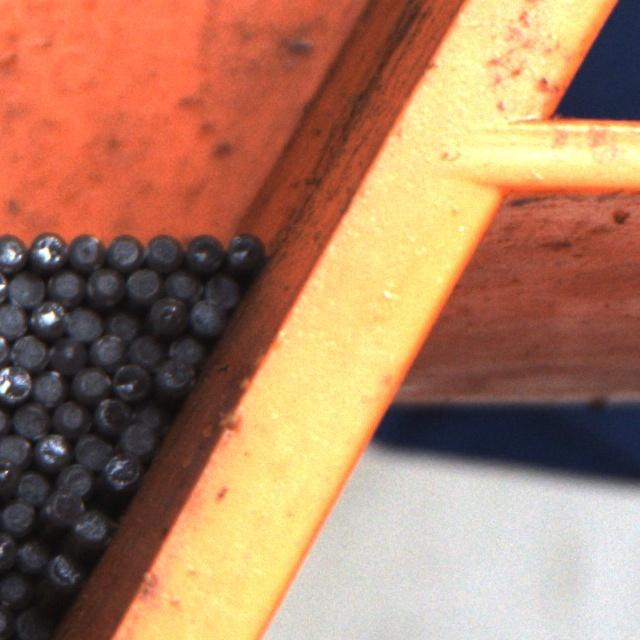tool: (182, 231, 222, 272), (153, 352, 194, 392), (222, 230, 262, 270), (100, 452, 140, 491), (29, 228, 67, 268), (144, 296, 184, 334), (143, 228, 181, 268), (84, 266, 122, 305), (71, 505, 110, 543), (201, 272, 240, 310), (162, 268, 200, 307), (55, 462, 94, 500), (110, 361, 150, 398), (28, 296, 66, 334), (32, 430, 70, 468), (72, 361, 110, 399), (188, 296, 226, 334), (44, 552, 82, 590), (125, 264, 162, 303), (90, 394, 129, 431), (118, 418, 158, 454), (104, 230, 141, 268), (30, 366, 67, 404), (50, 397, 88, 434), (66, 230, 103, 268), (7, 270, 44, 308), (12, 400, 49, 438), (38, 494, 75, 532), (10, 332, 47, 369), (50, 333, 87, 370), (0, 496, 36, 534), (74, 432, 112, 468), (14, 536, 50, 574), (47, 267, 84, 303), (126, 331, 163, 367), (88, 329, 125, 365), (14, 605, 52, 640), (66, 304, 102, 340), (15, 468, 51, 504), (104, 308, 141, 342), (0, 570, 33, 608), (0, 364, 31, 402), (0, 432, 30, 469), (0, 300, 27, 338), (0, 231, 26, 270), (0, 530, 17, 569), (0, 454, 16, 492)
